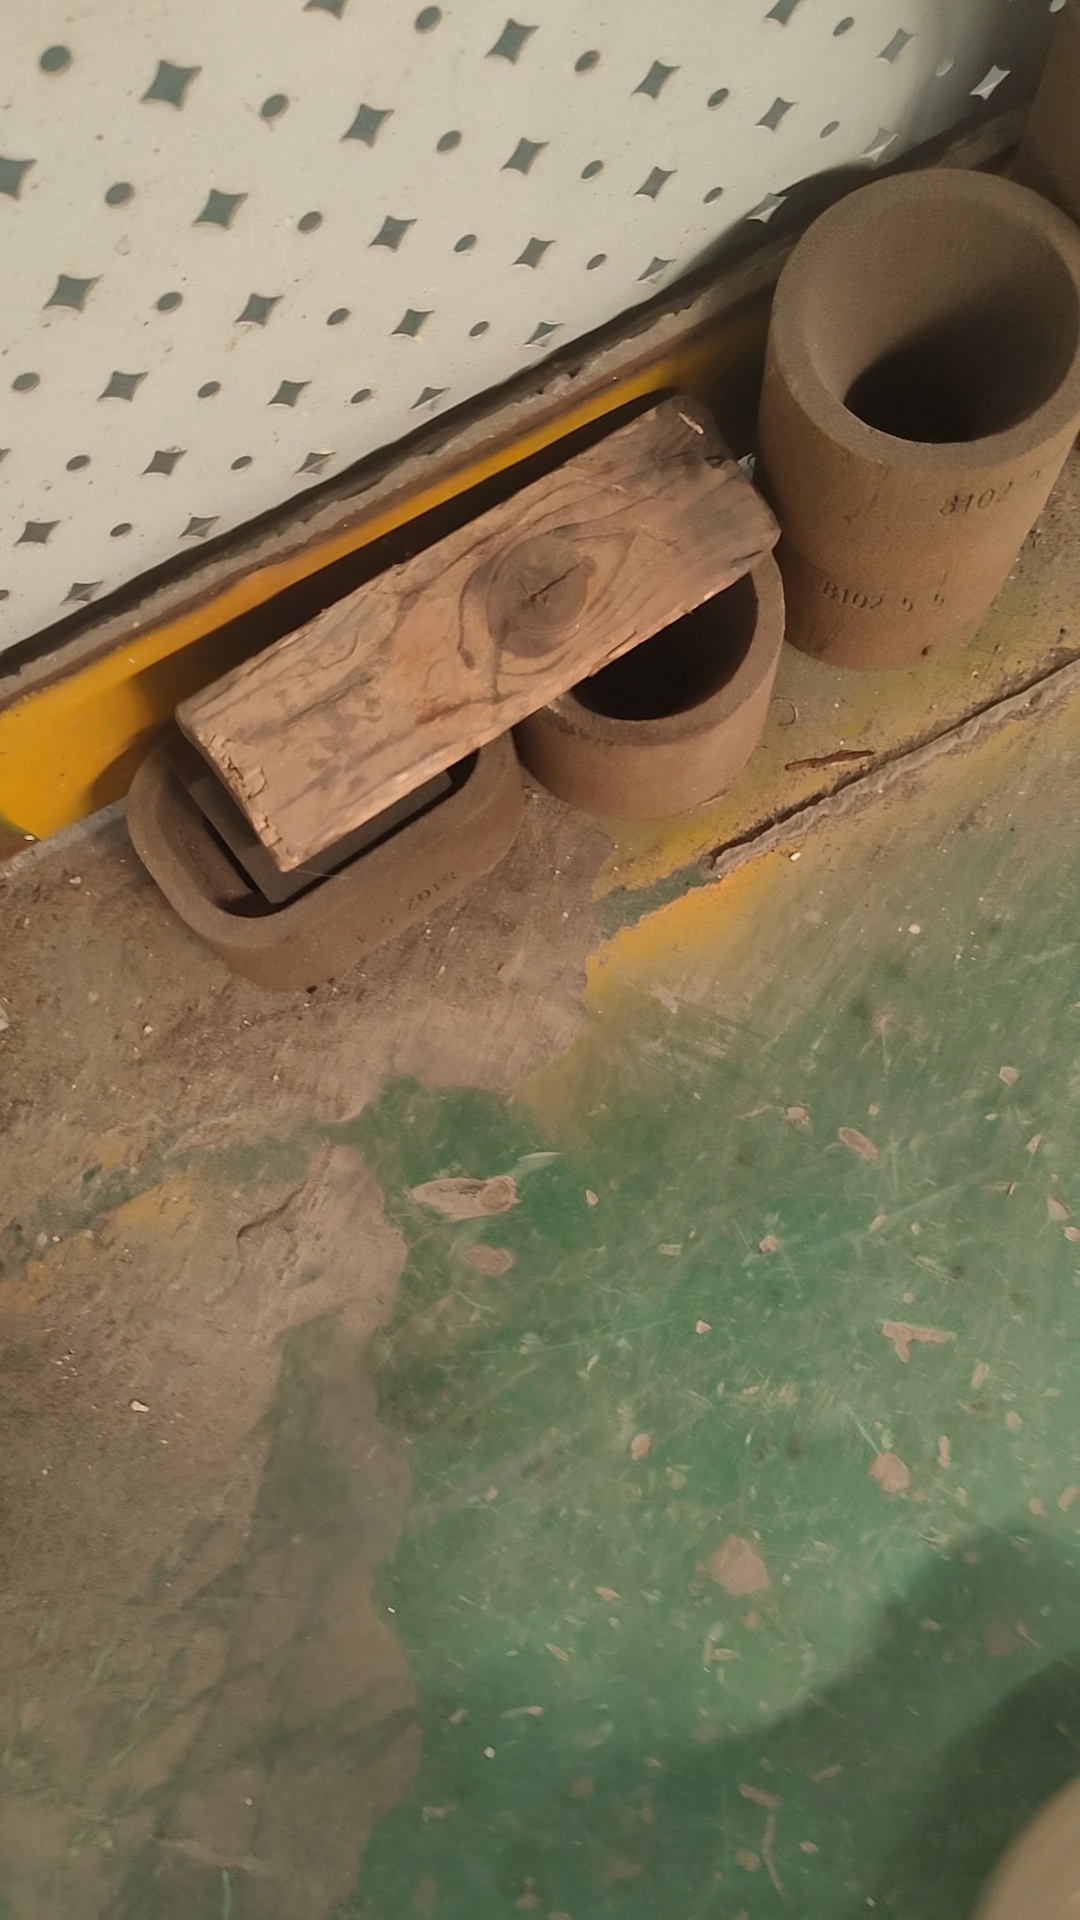pouring hole: (802, 193, 1080, 443), (541, 505, 756, 721)
